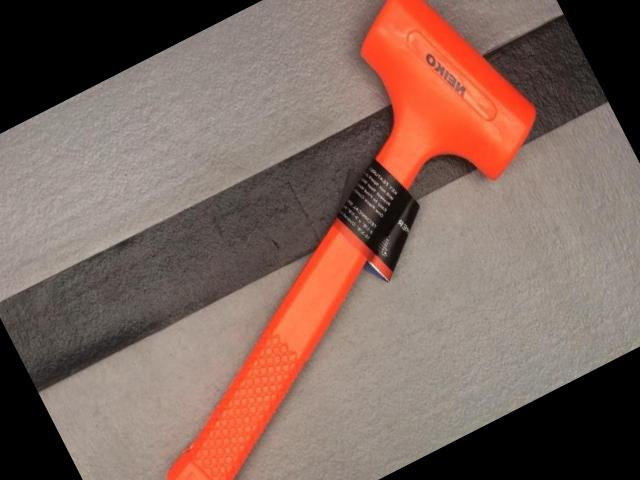hammer: (13, 0, 636, 480)
